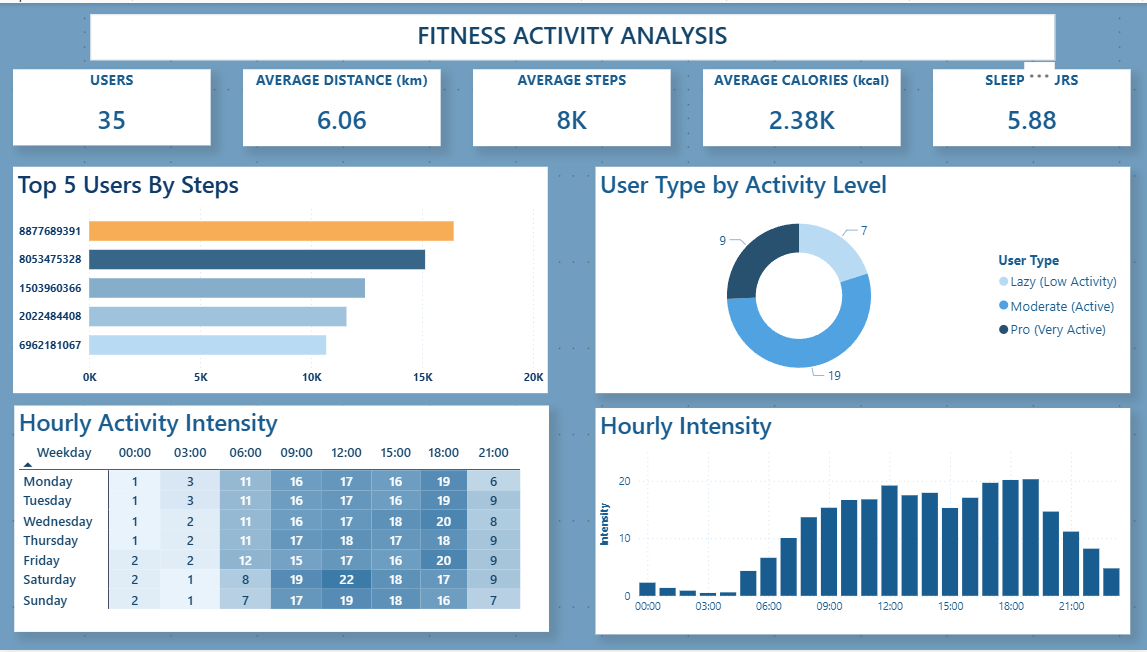

The dashboard page shown, as its layout file describes it:
{"tool":"powerbi","page":{"name":"Page 1","canvas":[1280,720],"ordinal":0},"visuals":[{"type":"cardVisual","title":"AVERAGE DISTANCE (km)","fields":{"Data":["Avg(daily_activity.TotalDistance)"]},"box":[272.3,73.2,220,85.4],"z":0},{"type":"cardVisual","title":"USERS","fields":{"Data":["Count(daily_activity.Id)"]},"box":[16.3,73.2,220,85],"z":1000},{"type":"cardVisual","title":"AVERAGE STEPS","fields":{"Data":["Avg(daily_activity.TotalSteps)"]},"box":[528.2,73.2,220,85.4],"z":2000},{"type":"cardVisual","title":"AVERAGE CALORIES (kcal)","fields":{"Data":["Avg(daily_activity.Calories)"]},"box":[784.2,73.2,220,85.4],"z":3000},{"type":"lineStackedColumnComboChart","title":"Hourly Intensity","fields":{"Category":["hourly_intensities.activity_hour"],"Y":["Avg(hourly_intensities.TotalIntensity)"]},"box":[664.5,450.3,595.4,252.3],"z":4000},{"type":"cardVisual","title":"SLEEP HOURS","fields":{"Data":["minutes_sleep_appended.AvgSleepPerSession"]},"box":[1040.2,73.2,220,85.4],"z":5000},{"type":"textbox","box":[103.6,12.2,1072.8,51.5],"z":6000},{"type":"pivotTable","title":"Hourly Activity Intensity","fields":{"Rows":["Calendar.Weekday"],"Columns":["hourly_intensities.HourBinLabel"],"Values":["hourly_intensities.Intensity Rounded"]},"box":[17.6,447.6,595.4,252],"z":7000},{"type":"donutChart","title":"User Type by Activity Level","fields":{"Y":["Count(daily_activity.Id)"],"Series":["daily_activity.User_Type"]},"box":[664.5,181.7,595.4,252.3],"z":9000},{"type":"clusteredBarChart","title":"Top 5 Users By Steps","fields":{"Category":["Users.Id"],"Y":["Avg(daily_activity.TotalSteps)"]},"box":[16.3,181.7,595,252.3],"z":10000}]}

Visuals, with their boxes in screenshot pixels (x1, y1, x2, y2), scaled from the page's 1280x720 canvas onto the 1147x652 screenshot:
"AVERAGE DISTANCE (km)" cardVisual: (244,66,441,144)
"USERS" cardVisual: (15,66,212,143)
"AVERAGE STEPS" cardVisual: (473,66,670,144)
"AVERAGE CALORIES (kcal)" cardVisual: (703,66,900,144)
"Hourly Intensity" lineStackedColumnComboChart: (595,408,1129,636)
"SLEEP HOURS" cardVisual: (932,66,1129,144)
textbox: (93,11,1054,58)
"Hourly Activity Intensity" pivotTable: (16,405,549,634)
"User Type by Activity Level" donutChart: (595,165,1129,393)
"Top 5 Users By Steps" clusteredBarChart: (15,165,548,393)
